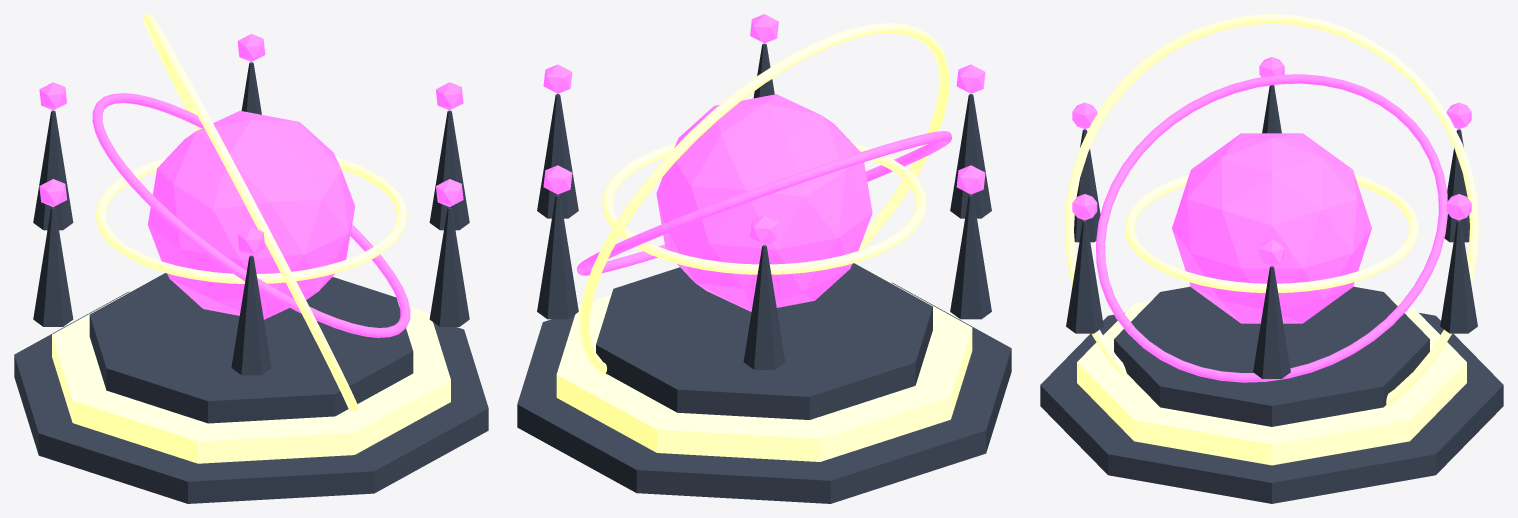
The model's file is gpu-blender-v38.glb.
3 renders of one model, left to right at view 1: azimuth 30°, elevation 25°; view 2: azimuth 150°, elevation 25°; view 3: azimuth 270°, elevation 25°, orthographic. The views are drawn at different scales.
Visible parts, largest first — view 1: Cylinder.002, SovereignCore_cron-rhythm-studio, Cylinder, Cylinder.001, Torus.001, Torus.002, Torus, Cone.004, Cone.003, Cone.005, Cone, Cone.002 (+7 smaller); view 2: Cylinder.002, SovereignCore_cron-rhythm-studio, Cylinder, Cylinder.001, Torus.002, Torus.001, Torus, Cone.001, Cone.003, Cone.002, Cone, Cone.004 (+6 smaller); view 3: SovereignCore_cron-rhythm-studio, Cylinder.002, Cylinder, Cylinder.001, Torus.001, Torus.002, Torus, Cone.001, Cone.005, Cone, Cone.004, Cone.002 (+4 smaller).
Part boxes in pixels (x1,y1,x2,y2): Cylinder.002: (89,273,413,423); SovereignCore_cron-rhythm-studio: (147,110,355,319); Cylinder: (14,291,488,503); Cylinder.001: (52,281,450,463); Torus.001: (92,93,410,337); Torus.002: (143,14,358,411); Torus: (95,158,407,283); Cone.004: (231,255,271,375); Cone.003: (33,207,73,326); Cone.005: (429,207,469,326); Cone: (429,110,469,230); Cone.002: (33,110,73,230); Cylinder.002: (596,263,932,419); SovereignCore_cron-rhythm-studio: (656,94,872,311); Cylinder: (517,282,1011,503); Cylinder.001: (556,272,972,461); Torus.002: (579,23,949,374); Torus.001: (577,131,951,275); Torus: (602,143,926,274); Cone.001: (537,195,578,319); Cone.003: (950,195,991,319); Cone.002: (743,245,785,369); Cone: (537,94,578,218); Cone.004: (950,94,991,218); SovereignCore_cron-rhythm-studio: (1172,133,1371,323); Cylinder.002: (1114,286,1429,426); Cylinder: (1040,313,1503,503); Cylinder.001: (1077,301,1466,465); Torus.001: (1096,74,1447,382); Torus.002: (1064,14,1479,406); Torus: (1125,175,1418,292); Cone.001: (1440,220,1477,333); Cone.005: (1066,220,1103,333); Cone: (1253,266,1290,378); Cone.004: (1074,129,1100,242); Cone.002: (1444,129,1469,242).
Size of the model in its own units: 4.41 by 3.72 by 4.4.
